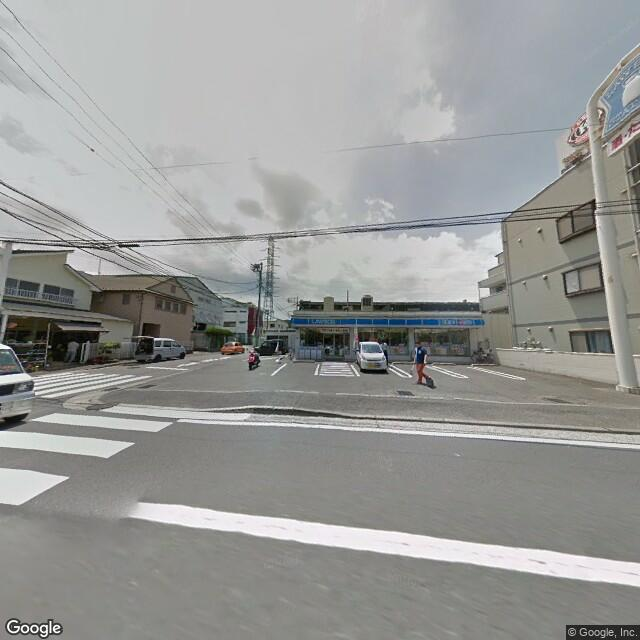lawson: (595, 46, 638, 143), (290, 310, 487, 331)
